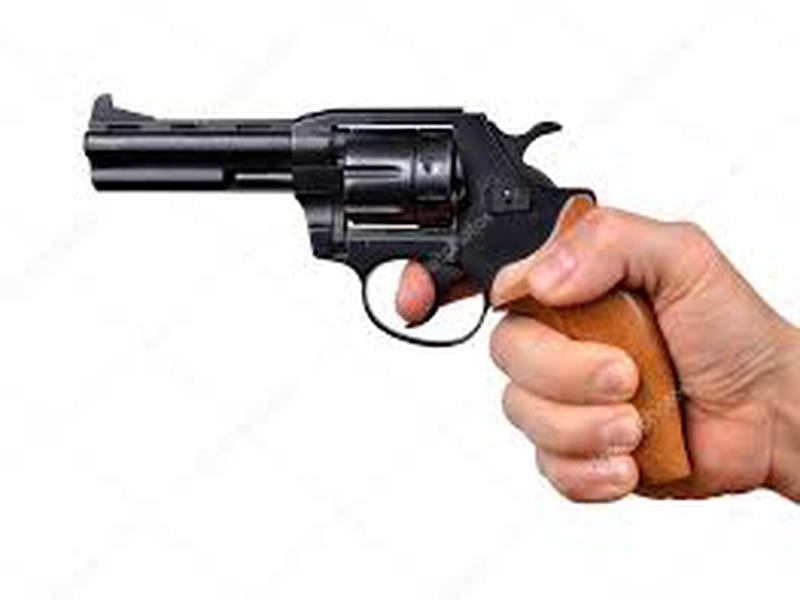gun: (81, 83, 792, 512)
